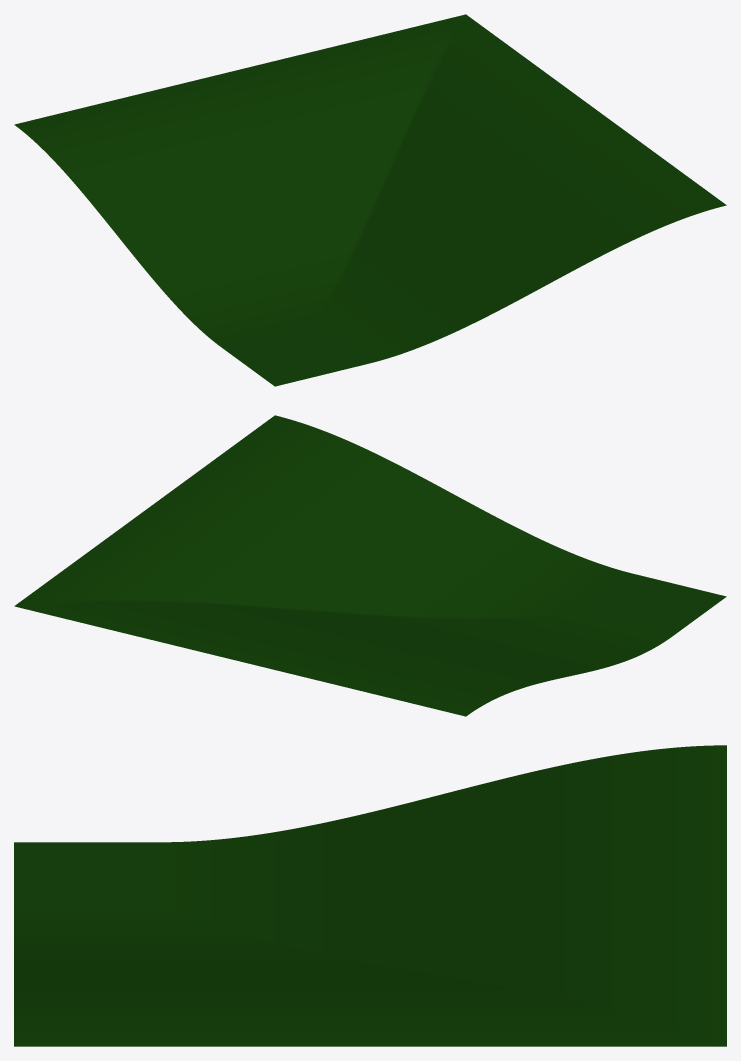
The model's file is Terrain_Part_Edge_In.fbx.
3 views of the same model, one above another, from view 1: azimuth 30°, elevation 25°; view 2: azimuth 150°, elevation 25°; view 3: azimuth 270°, elevation 25° (orthographic). The views are drawn at different scales.
Visible parts, largest first — view 1: Terrain_Part_Edge_In; view 2: Terrain_Part_Edge_In; view 3: Terrain_Part_Edge_In.
Boxes of the visible parts, left/top/right/bottom form: Terrain_Part_Edge_In: left=14, top=14, right=726, bottom=386; Terrain_Part_Edge_In: left=14, top=415, right=726, bottom=716; Terrain_Part_Edge_In: left=14, top=745, right=726, bottom=1046.
Bounding box in the file's own units: 2000 × 300 × 2000.
